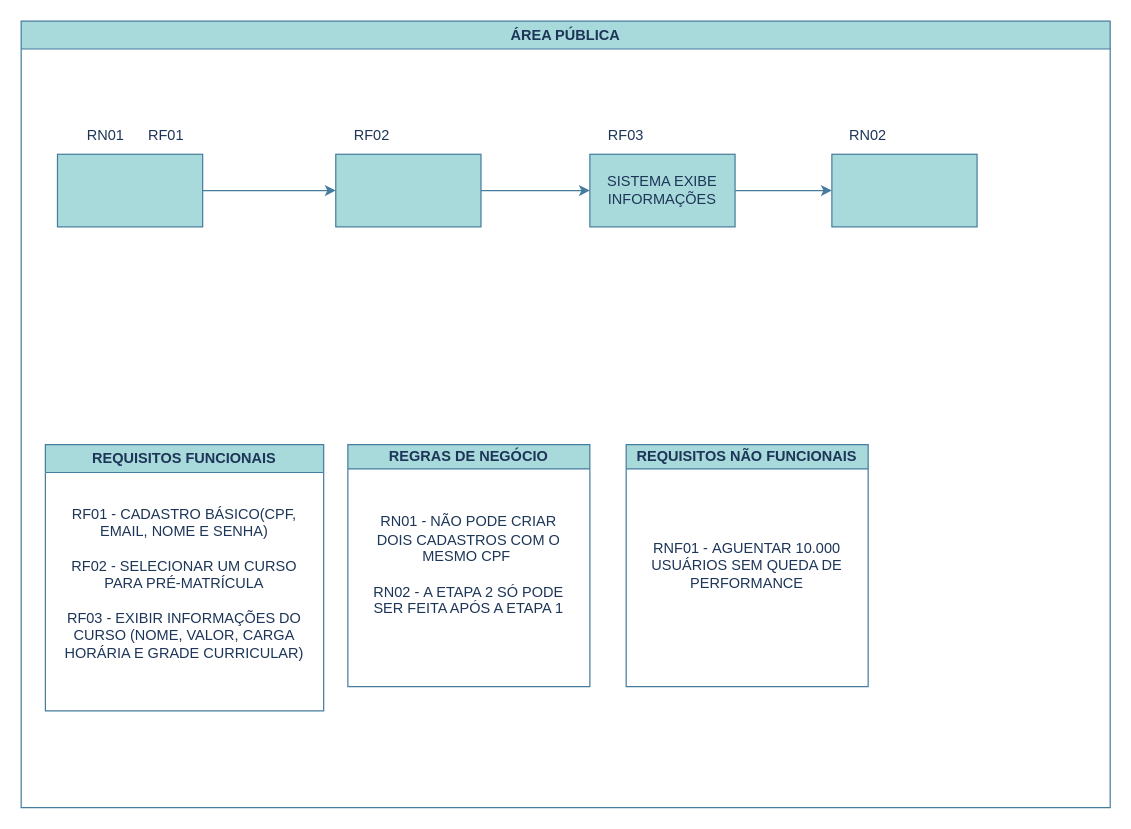
Image size: 1131x829. Some labels were removed from this diagram. The centre of each missing label's shape, as x and y in pixels:
"CADASTRO(ETAPA 1)" belongs at point (129, 190).
"ESCOLHE CURSO DESEJADO" belongs at point (408, 190).
"SISTEMA GERA MATRÍCULA (ETAPA 2)" belongs at point (904, 190).
